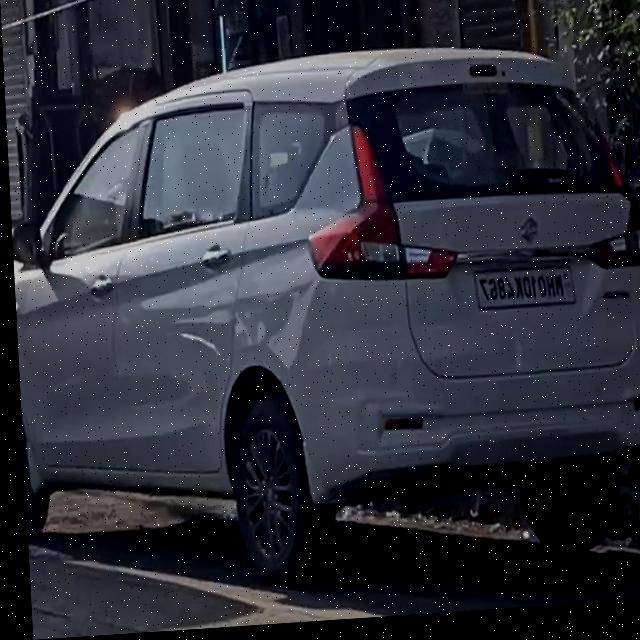plate: (471, 270, 573, 317)
